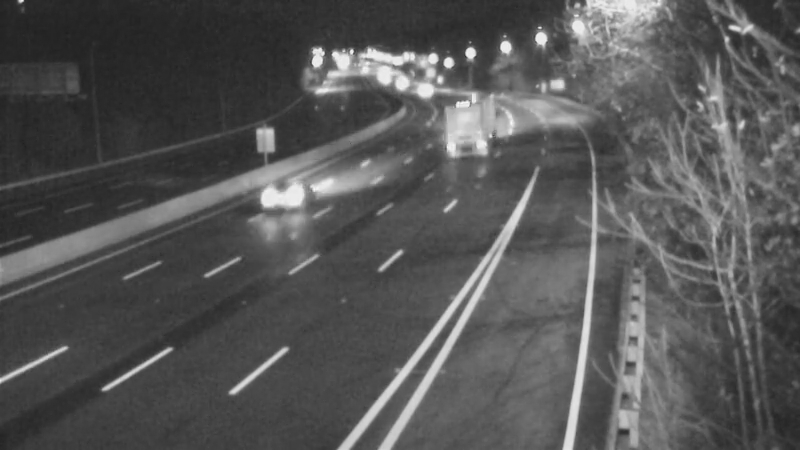vehicle: (249, 154, 329, 234), (375, 59, 425, 109), (397, 64, 447, 114), (442, 101, 492, 151)
